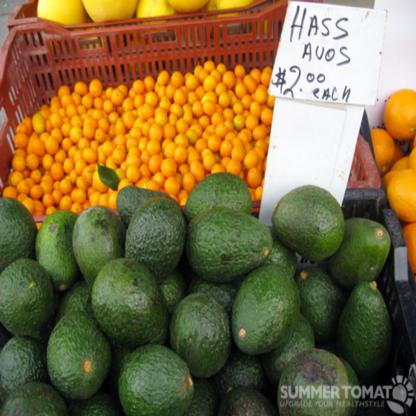Orange: (388, 90, 414, 142), (390, 175, 416, 216), (368, 129, 392, 166), (390, 155, 408, 182), (246, 166, 259, 186), (158, 140, 176, 154), (166, 118, 180, 135), (249, 100, 264, 115), (234, 85, 250, 99), (144, 146, 158, 161), (204, 124, 219, 138), (149, 125, 164, 138), (244, 75, 260, 87), (262, 110, 273, 127), (249, 70, 263, 83), (208, 123, 220, 138), (55, 145, 66, 161), (30, 133, 40, 150), (225, 159, 239, 171), (220, 104, 229, 122), (194, 161, 204, 177), (165, 180, 177, 193), (50, 136, 58, 154), (143, 163, 155, 175), (163, 159, 175, 171), (221, 136, 229, 154), (233, 140, 242, 156), (65, 163, 75, 177), (234, 110, 242, 127), (203, 78, 214, 90), (67, 129, 77, 142), (204, 152, 214, 165), (213, 95, 223, 108), (175, 145, 183, 161), (186, 104, 194, 120), (138, 124, 149, 135), (32, 169, 40, 184), (89, 83, 101, 93), (213, 110, 220, 127), (192, 152, 201, 165), (52, 159, 60, 173), (152, 157, 163, 167), (152, 171, 163, 181), (187, 172, 192, 194), (14, 131, 23, 143), (78, 98, 87, 110), (212, 157, 221, 169), (248, 152, 256, 165), (134, 156, 140, 173), (246, 115, 257, 124), (252, 86, 263, 95), (186, 146, 194, 158), (196, 129, 204, 140), (31, 186, 38, 198), (34, 115, 40, 129), (46, 193, 52, 207), (46, 155, 53, 167), (72, 122, 79, 134), (5, 186, 13, 196), (85, 112, 91, 125), (24, 198, 29, 212), (115, 145, 120, 159), (13, 156, 19, 167), (201, 118, 206, 131), (63, 95, 70, 104), (43, 179, 48, 191), (180, 121, 190, 127), (175, 104, 182, 112), (44, 136, 50, 145), (67, 102, 73, 111), (28, 157, 34, 165), (132, 138, 138, 146), (205, 100, 209, 112), (242, 83, 246, 95), (263, 75, 269, 83), (256, 124, 260, 134), (84, 122, 87, 135), (15, 194, 22, 199), (23, 121, 27, 129), (247, 127, 248, 136)
